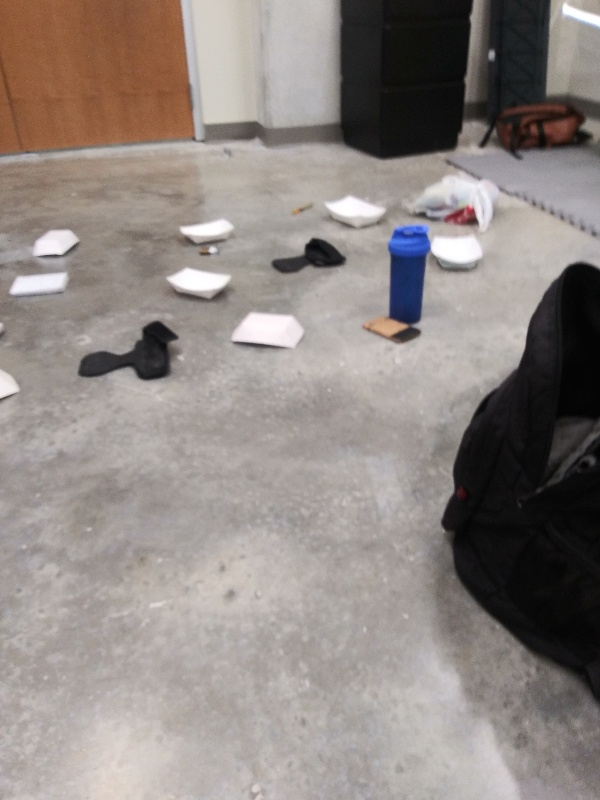plate: (226, 309, 306, 352), (164, 263, 239, 304), (323, 189, 391, 231), (430, 229, 486, 275), (175, 216, 241, 249), (28, 225, 85, 261), (1, 363, 24, 410)
